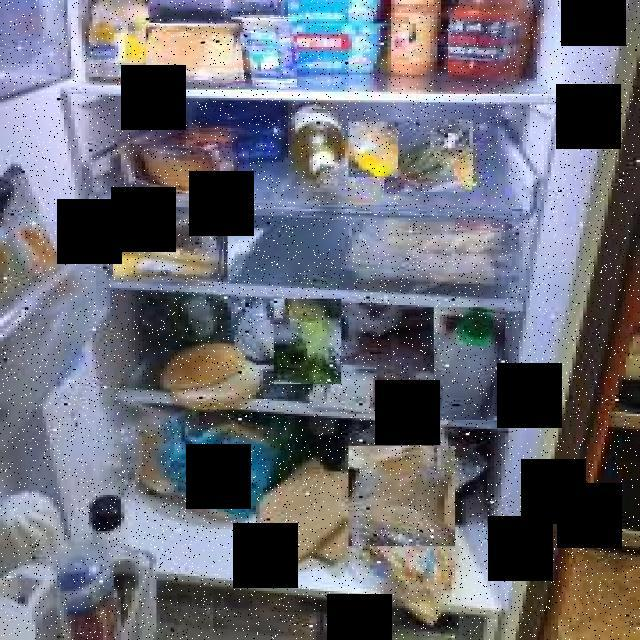asparagus: (384, 119, 473, 192)
bread: (349, 446, 455, 546)
broccoli: (274, 299, 341, 384)
humus: (121, 126, 238, 194), (146, 24, 238, 90)
lemon: (348, 122, 398, 177)
mayonaise: (86, 0, 150, 77)
milk: (434, 307, 505, 420)
pineapple: (114, 207, 228, 282)
tomato_sauce: (448, 0, 519, 81)
yogurt: (229, 16, 297, 89)
